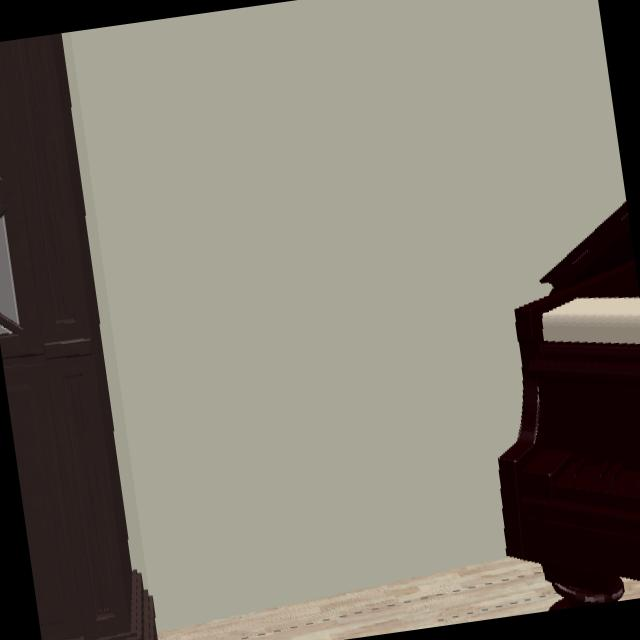book: (0, 33, 156, 640)
